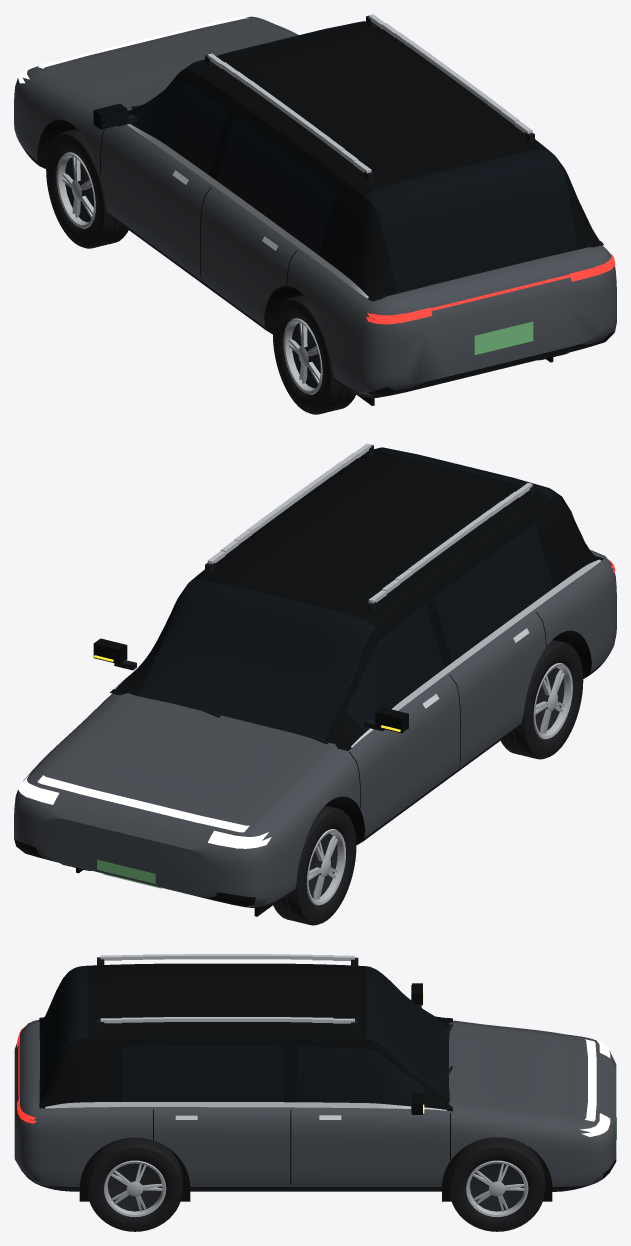
The model's file is gz_suv.glb.
3 renders of one model, top to bottom at view 1: azimuth 30°, elevation 25°; view 2: azimuth 150°, elevation 25°; view 3: azimuth 270°, elevation 25°, orthographic. The views are drawn at different scales.
Parts seen in each view (by area): view 1: suv | body, suv rear left | wheel, suv front left | wheel; view 2: suv | body, suv front left | wheel, suv rear left | wheel; view 3: suv | body, suv front right | wheel, suv rear right | wheel.
Part boxes in pixels (x1,y1,x2,y2): suv | body: (14,14,616,405); suv rear left | wheel: (273,295,356,414); suv front left | wheel: (46,129,128,248); suv | body: (14,443,616,916); suv front left | wheel: (273,805,356,925); suv rear left | wheel: (500,639,583,759); suv | body: (14,954,616,1201); suv front right | wheel: (449,1137,544,1231); suv rear right | wheel: (87,1137,182,1231).
Size of the model in its own units: 2.31 by 1.77 by 4.91.
